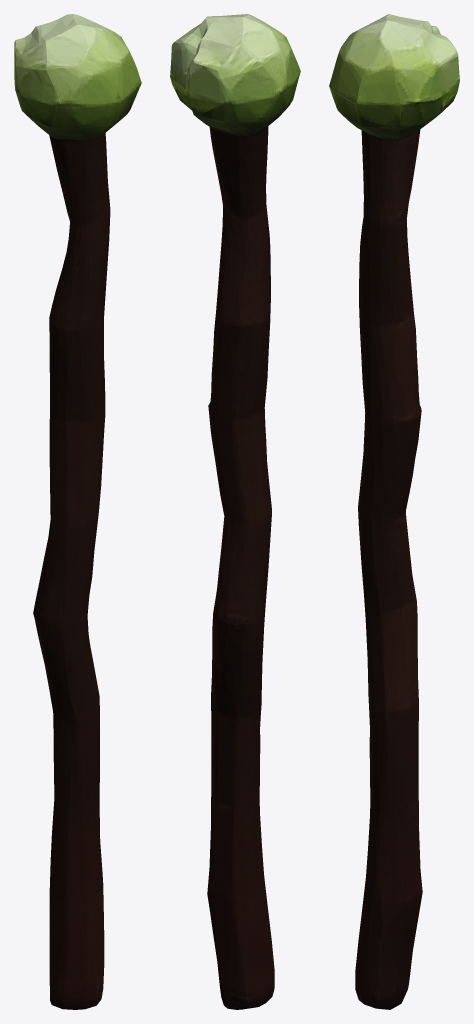
The model's file is before.glb.
3 views of the same model, side by side, from view 1: azimuth 90°, elevation 25°; view 2: azimuth 150°, elevation 25°; view 3: azimuth 330°, elevation 25° (orthographic).
Parts seen in each view (by area): view 1: world; view 2: world; view 3: world.
Boxes of the visible parts, x1,y1,x2,y2 form: world: (14,14,141,1009); world: (170,14,300,1009); world: (329,14,459,1009).
Bounding box in the file's own units: 0.107 × 0.9646 × 0.1138.
Materials: 1 (1 with a texture image).
